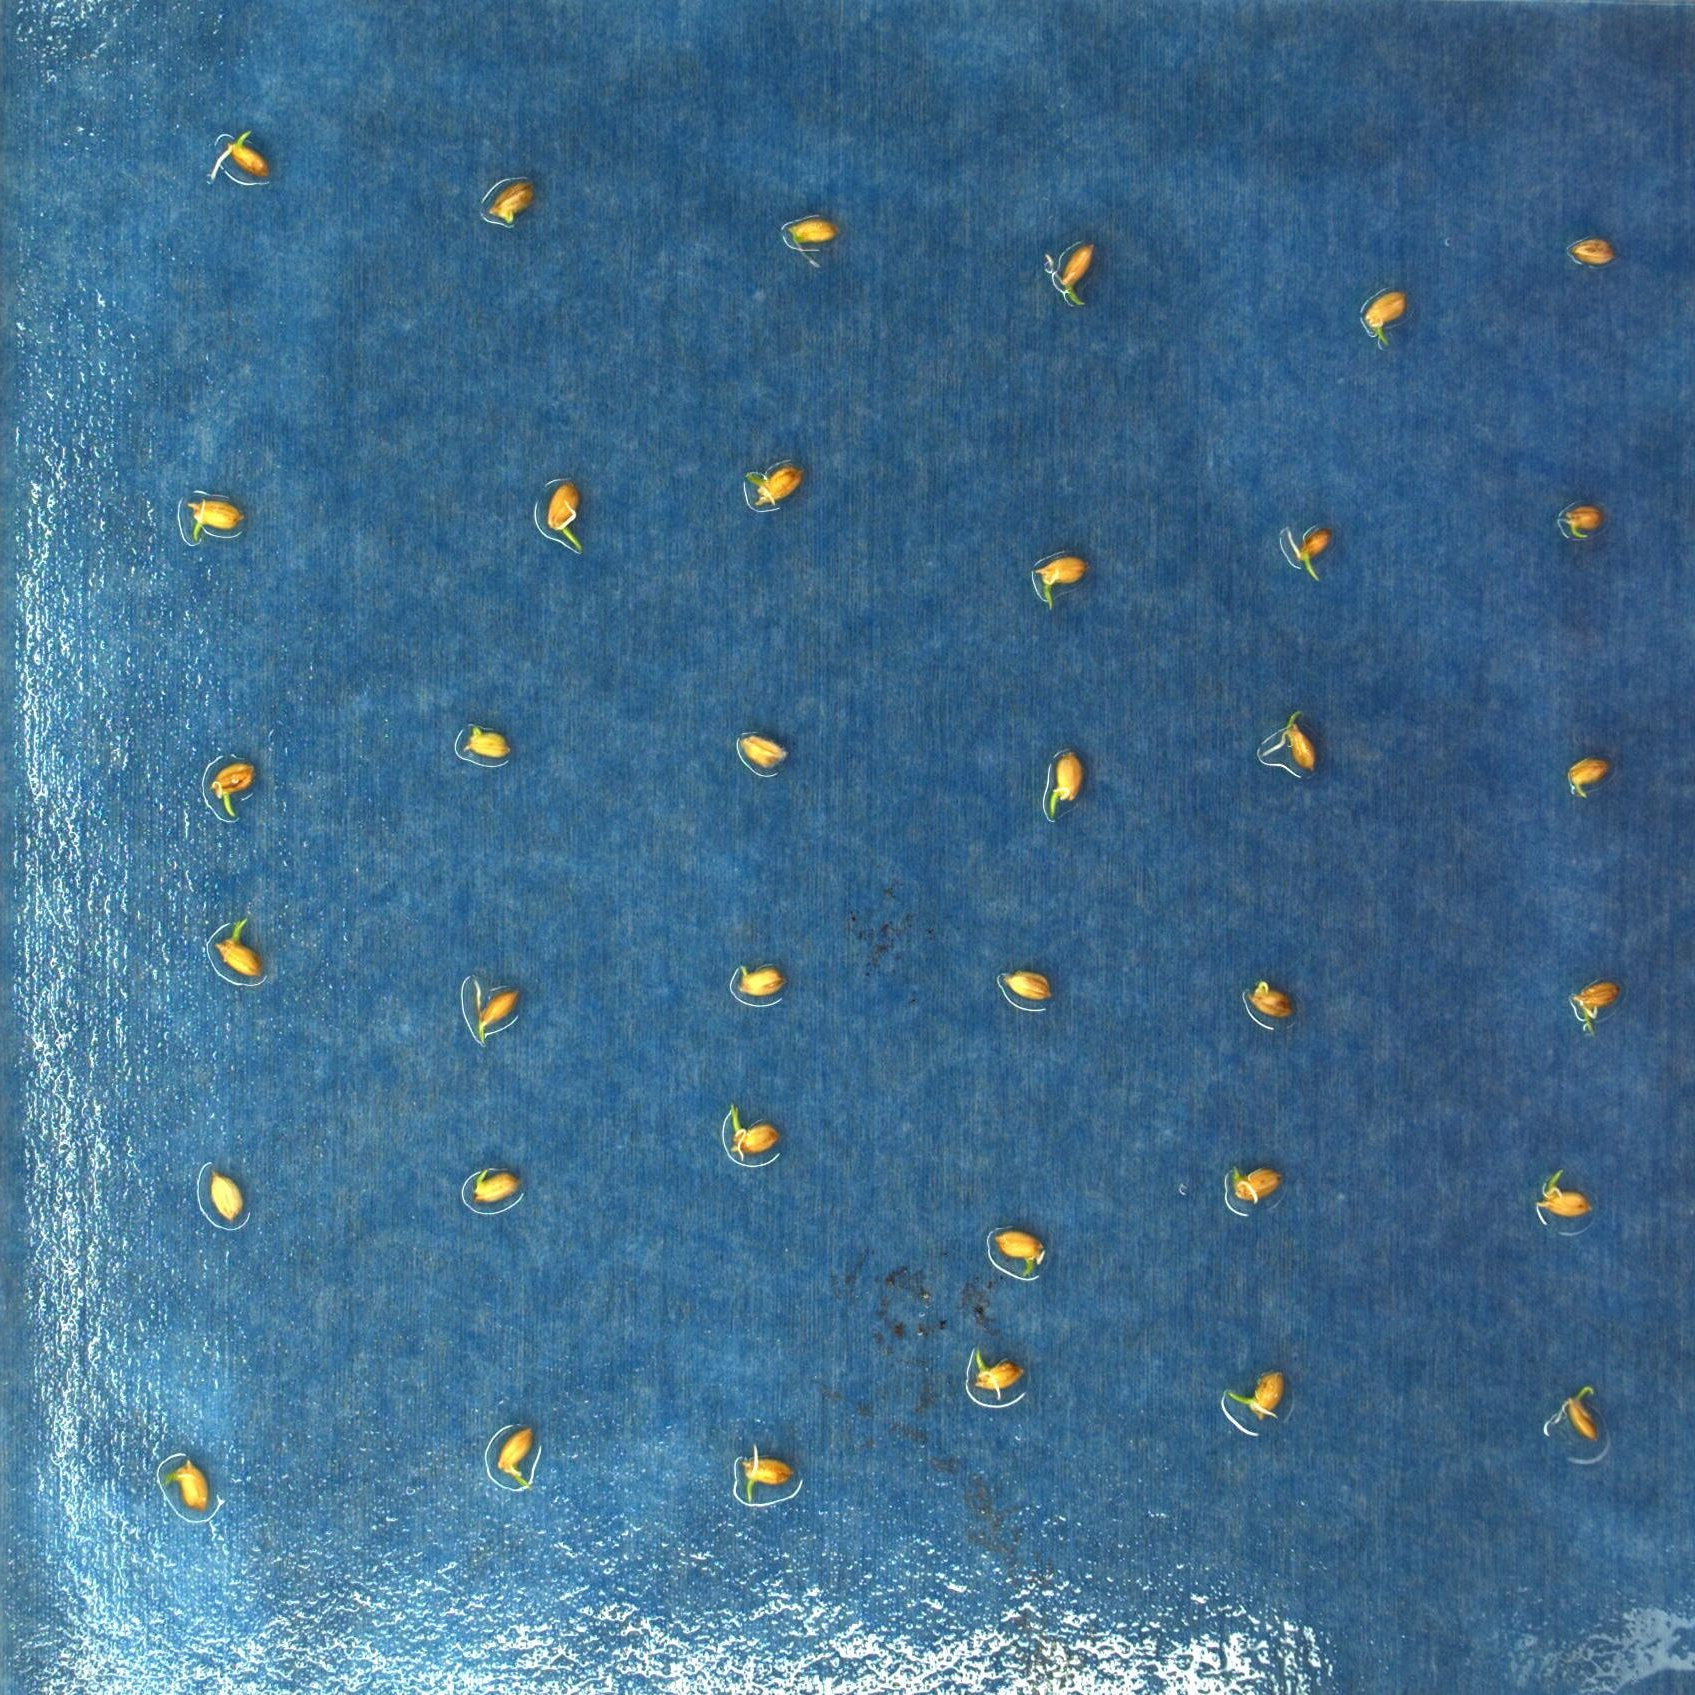not sprout: (1220, 1153, 1298, 1222), (211, 116, 286, 183), (733, 458, 816, 514), (206, 751, 269, 826), (160, 1450, 227, 1518), (1226, 1357, 1287, 1430), (1558, 979, 1624, 1043), (486, 1420, 540, 1495), (466, 986, 536, 1043), (1358, 281, 1422, 343), (993, 1215, 1059, 1276), (466, 1169, 534, 1225), (1038, 744, 1090, 818), (165, 492, 244, 540), (1271, 703, 1319, 782), (1024, 545, 1101, 594), (1551, 495, 1614, 553), (477, 179, 543, 230), (961, 1347, 1024, 1399), (1237, 981, 1304, 1029), (202, 1169, 258, 1226), (736, 723, 792, 781), (726, 958, 787, 1009), (1534, 1167, 1586, 1222), (469, 712, 515, 770), (997, 965, 1055, 1010), (1565, 225, 1617, 272), (785, 213, 840, 255), (1568, 750, 1611, 801)
sprout: (1040, 236, 1104, 329), (1277, 520, 1347, 602), (722, 1097, 787, 1180), (540, 472, 598, 560), (200, 913, 272, 981), (726, 1440, 796, 1506), (1548, 1381, 1617, 1444)
